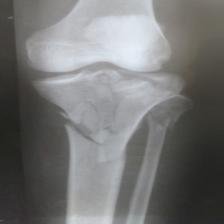comminuted-fracture: (4, 0, 224, 220)
